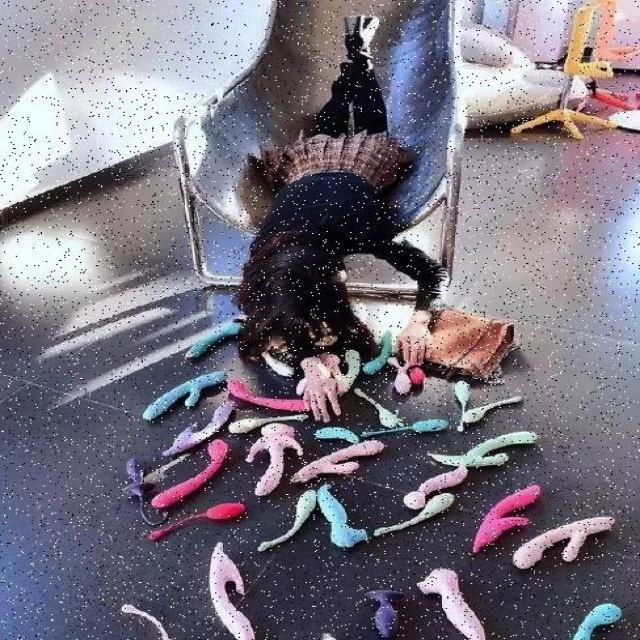fall: (231, 14, 416, 386)
